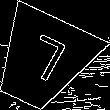L_SW: (15, 31, 70, 91)
